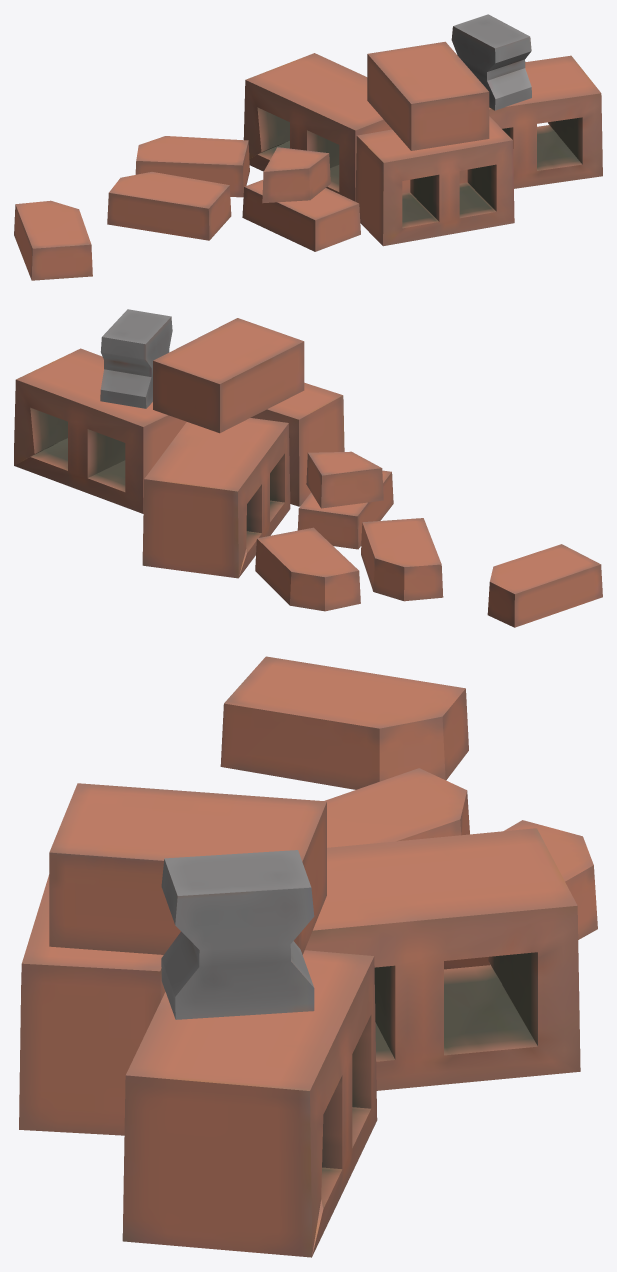
Rendered from Pfb_Garbage__3.fbx.
The picture shows the model from 3 angles, top to bottom: view 1: azimuth 30°, elevation 25°; view 2: azimuth 150°, elevation 25°; view 3: azimuth 270°, elevation 25°; orthographic projection. The views are drawn at different scales.
Parts seen in each view (by area): view 1: Mat_Gargabe_01; view 2: Mat_Gargabe_01; view 3: Mat_Gargabe_01.
Part boxes in pixels (<box>): Mat_Gargabe_01: <box>14,14,602,280</box>; Mat_Gargabe_01: <box>14,309,602,627</box>; Mat_Gargabe_01: <box>19,656,597,1257</box>.
Bounding box in the file's own units: 2.26 × 0.564 × 1.03.
Materials: 1 (1 with a texture image).
